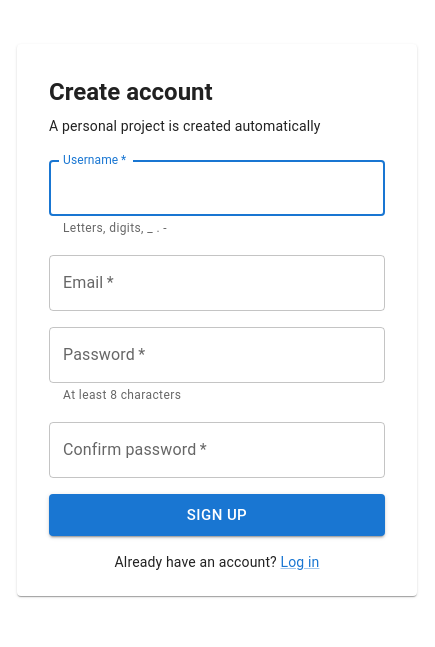
Scenario: RegisterPage › rejects short passwords
In the field labelled "Username *": [217, 188] box [49,160,385,216], type "goodname"
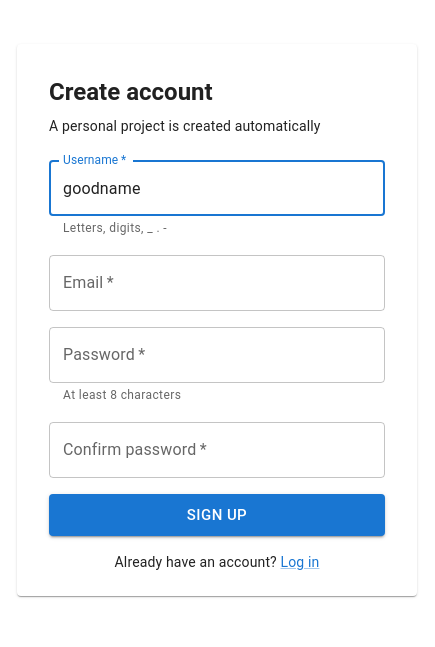
In the field labelled "Email *": [217, 283] box [49,255,385,311], type "a@b.com"
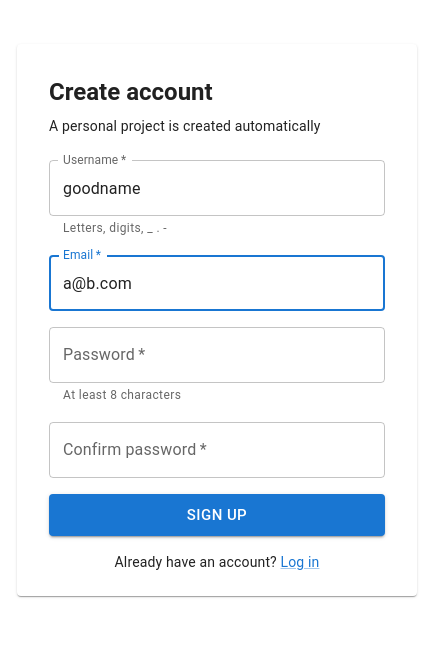
In the password field labelled "Password *": [217, 355] box [49,327,385,383], type "short"
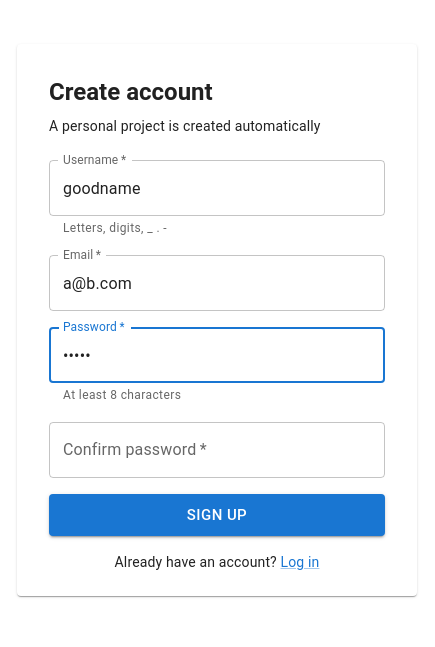
In the password field labelled "Confirm password *": [217, 450] box [49,422,385,478], type "short"
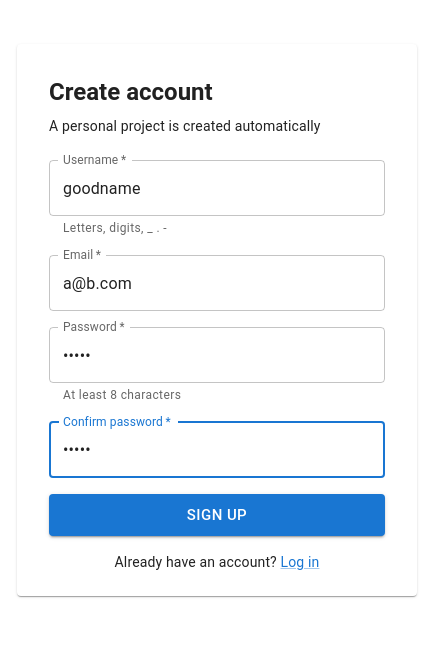
Click the button "Sign up": [217, 515] box [49,494,385,536]
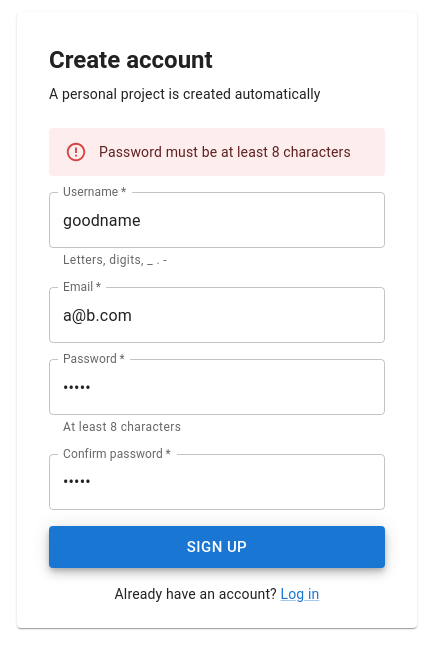
Expected: the message reads "Password must be at least 8 characters", [99,144,351,160]
